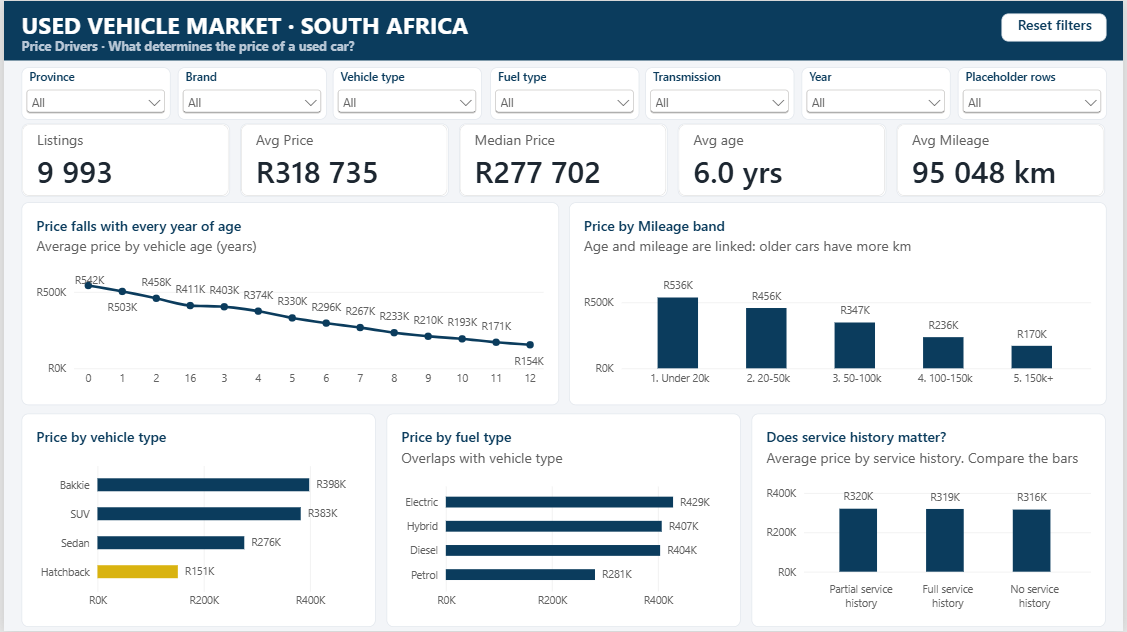

Layout of this report page (visuals, bound fields, positions):
{"tool":"powerbi","page":{"name":"Price Drivers","canvas":[1280,720],"ordinal":1},"visuals":[{"type":"shape","box":[0,0,1280,68],"z":0},{"type":"textbox","box":[20,8,550,36],"z":1000},{"type":"textbox","box":[20.5,41,548.9,24.1],"z":2000},{"type":"slicer","fields":{"Values":["Fact_Vehicles.Province"]},"box":[20.5,76,170.1,60.3],"z":3000},{"type":"slicer","fields":{"Values":["Fact_Vehicles.Brand"]},"box":[198,76,170,60],"z":4000},{"type":"slicer","fields":{"Values":["Fact_Vehicles.Vehicle_Type"]},"box":[376,76,170,60],"z":5000},{"type":"slicer","fields":{"Values":["Fact_Vehicles.Fuel_Type"]},"box":[555,76,170,60],"z":6000},{"type":"slicer","fields":{"Values":["Fact_Vehicles.Transmission"]},"box":[733,76,170,60],"z":7000},{"type":"slicer","fields":{"Values":["Fact_Vehicles.Year"]},"box":[911,76,170,60],"z":8000},{"type":"slicer","fields":{"Values":["Fact_Vehicles.Placeholder_Flag"]},"box":[1090,76,170,60],"z":9000},{"type":"cardVisual","fields":{"Data":["_Measures (2).Listings"]},"box":[20,140,238,84],"z":10000},{"type":"cardVisual","fields":{"Data":["_Measures (2).Avg Price"]},"box":[270,140,238,84],"z":11000},{"type":"cardVisual","fields":{"Data":["_Measures (2).Median Price"]},"box":[520,140,238,84],"z":12000},{"type":"cardVisual","fields":{"Data":["_Measures (2).Avg Age Label"]},"box":[770,140,238,84],"z":13000},{"type":"cardVisual","fields":{"Data":["_Measures (2).Avg Mileage Label"]},"box":[1020,140,238,84],"z":14000},{"type":"actionButton","title":"Reset filters","box":[1140,14,120,32],"z":15000},{"type":"lineChart","title":"Price falls with every year of age","fields":{"Y":["_Measures (2).Avg Price"],"Category":["Fact_Vehicles.Vehicle_Age"]},"box":[20,230,614,232],"z":16000},{"type":"clusteredColumnChart","title":"Price by Mileage band","fields":{"Category":["Fact_Vehicles.Mileage_Band"],"Y":["_Measures (2).Avg Price"]},"box":[646,230,614,232],"z":17000},{"type":"clusteredBarChart","title":"Price by vehicle type","fields":{"Category":["Fact_Vehicles.Vehicle_Type"],"Y":["_Measures (2).Avg Price"]},"box":[20,472,405,244],"z":18000},{"type":"clusteredBarChart","title":"Price by fuel type","fields":{"Category":["Fact_Vehicles.Fuel_Type"],"Y":["_Measures (2).Avg Price"]},"box":[437,472,405,244],"z":19000},{"type":"clusteredColumnChart","title":"Does service history matter?","fields":{"Category":["Fact_Vehicles.Service_History"],"Y":["_Measures (2).Avg Price"]},"box":[854,472,405,244],"z":20000}]}

Visuals, with their boxes in screenshot pixels (x1, y1, x2, y2), scaled from the page's 1280x720 canvas onto the 1127x632 screenshot:
shape: <region>0, 0, 1126, 60</region>
textbox: <region>18, 7, 502, 39</region>
textbox: <region>18, 36, 501, 57</region>
slicer - Fact_Vehicles.Province: <region>18, 67, 168, 120</region>
slicer - Fact_Vehicles.Brand: <region>174, 67, 324, 119</region>
slicer - Fact_Vehicles.Vehicle_Type: <region>331, 67, 481, 119</region>
slicer - Fact_Vehicles.Fuel_Type: <region>489, 67, 638, 119</region>
slicer - Fact_Vehicles.Transmission: <region>645, 67, 795, 119</region>
slicer - Fact_Vehicles.Year: <region>802, 67, 952, 119</region>
slicer - Fact_Vehicles.Placeholder_Flag: <region>960, 67, 1109, 119</region>
cardVisual - _Measures (2).Listings: <region>18, 123, 227, 197</region>
cardVisual - _Measures (2).Avg Price: <region>238, 123, 447, 197</region>
cardVisual - _Measures (2).Median Price: <region>458, 123, 667, 197</region>
cardVisual - _Measures (2).Avg Age Label: <region>678, 123, 888, 197</region>
cardVisual - _Measures (2).Avg Mileage Label: <region>898, 123, 1108, 197</region>
"Reset filters" actionButton: <region>1004, 12, 1109, 40</region>
"Price falls with every year of age" lineChart: <region>18, 202, 558, 406</region>
"Price by Mileage band" clusteredColumnChart: <region>569, 202, 1109, 406</region>
"Price by vehicle type" clusteredBarChart: <region>18, 414, 374, 628</region>
"Price by fuel type" clusteredBarChart: <region>385, 414, 741, 628</region>
"Does service history matter?" clusteredColumnChart: <region>752, 414, 1109, 628</region>
